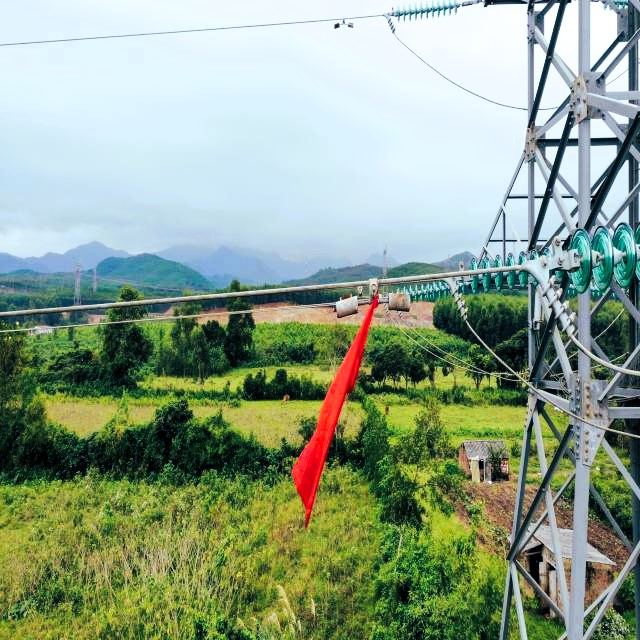wire foreign body: (278, 275, 406, 523)
